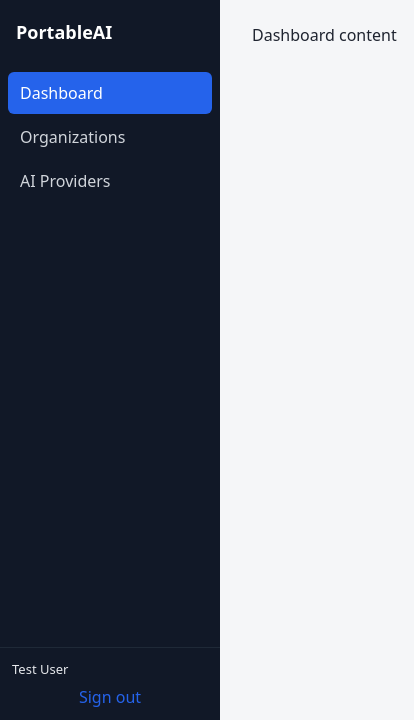
Test: AppLayout › signs the user out and clears the user chip
The image size is (414, 720).
Check: the text "Test User" is shown, box 12,660 -> 68,678
What coordinates should you click on to do the following:
click the button "Sign out"
I would click on:
 (110, 697)
Its box is 12,686 -> 208,708.
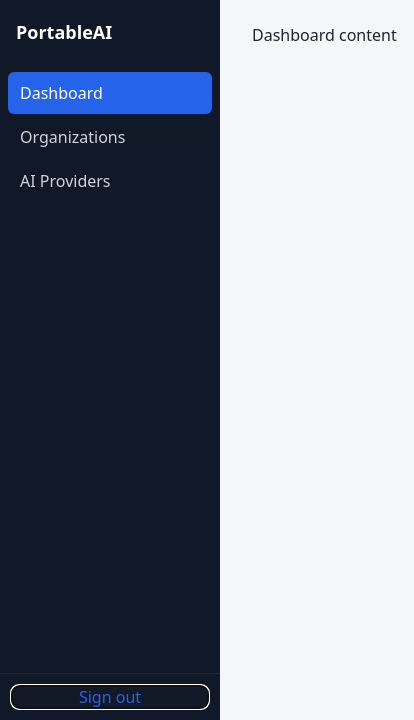
Check: the text "Test User" is gone
